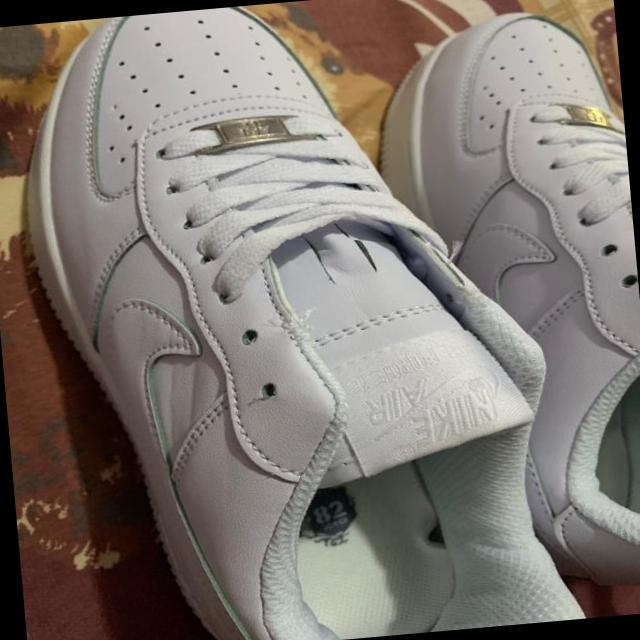nike_fake_airforce: (2, 0, 584, 640), (357, 0, 640, 605)
